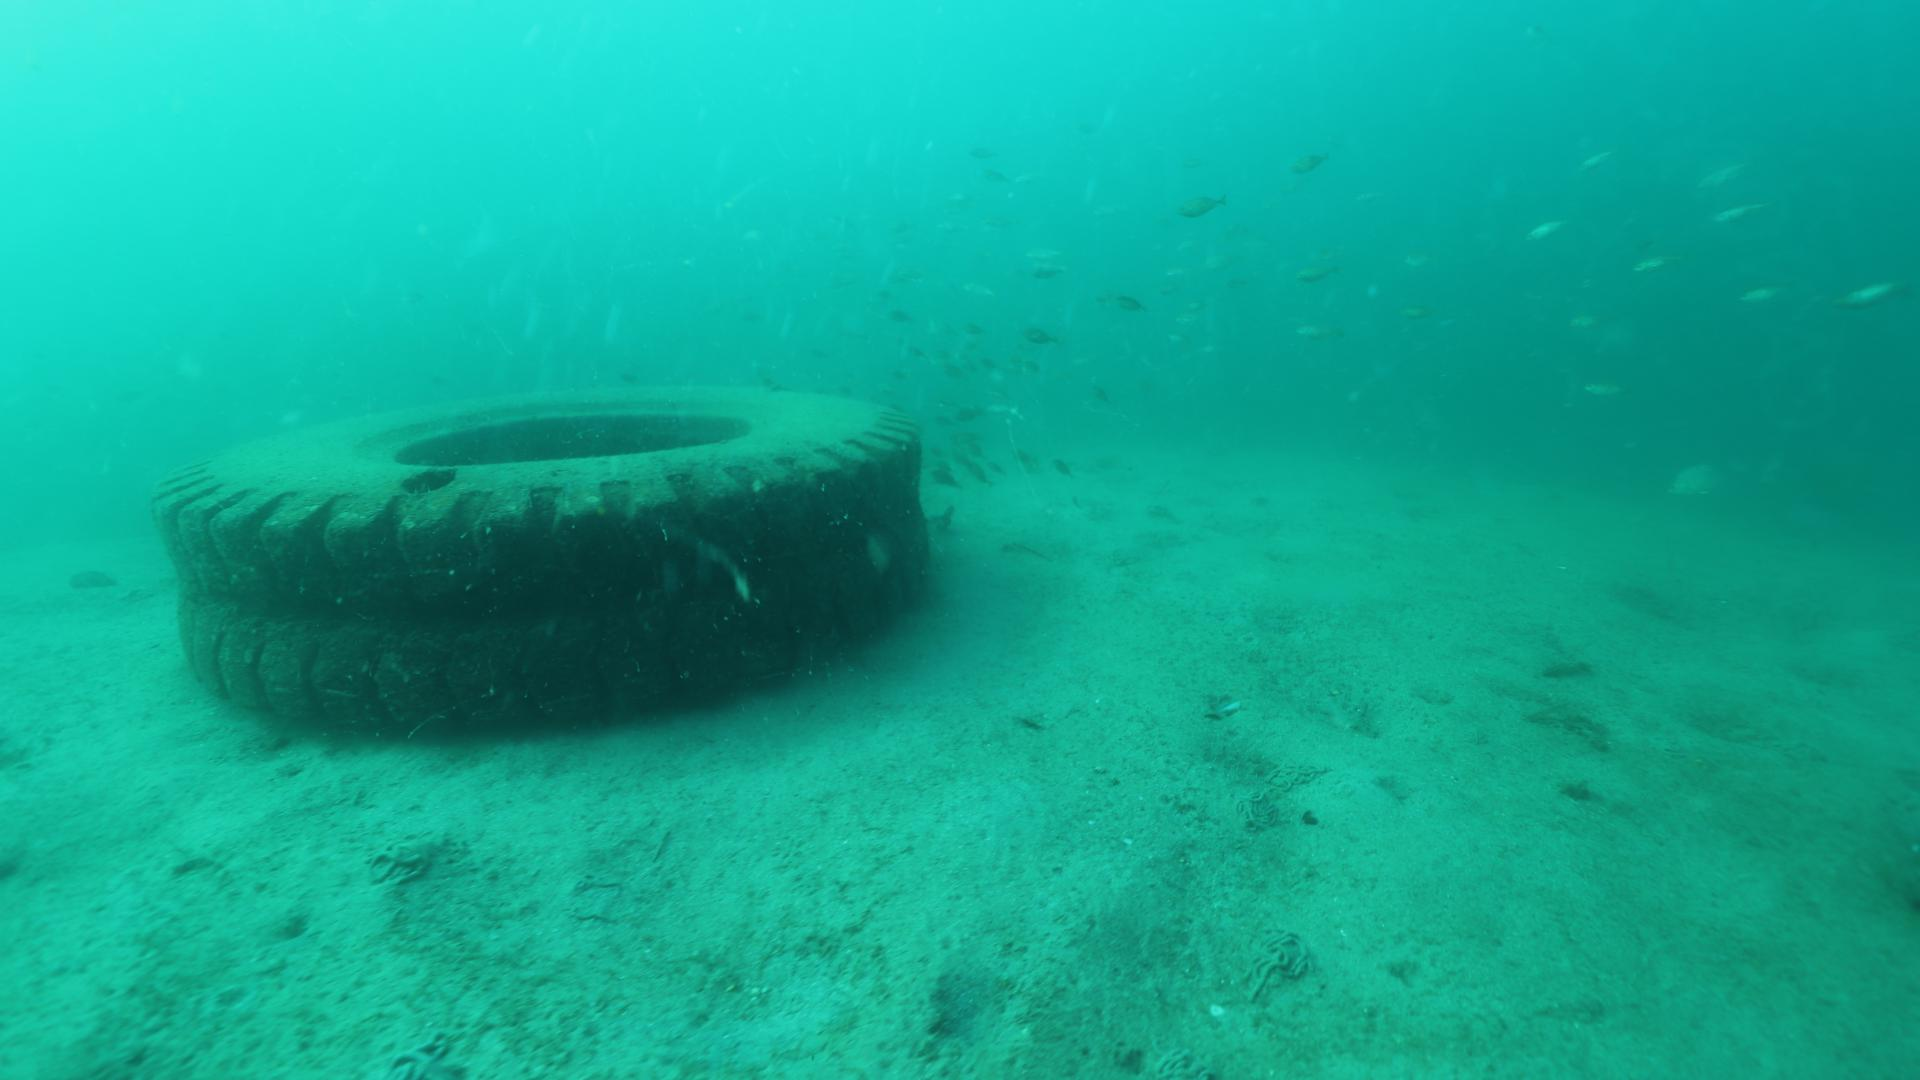tire: (152, 377, 931, 741)
